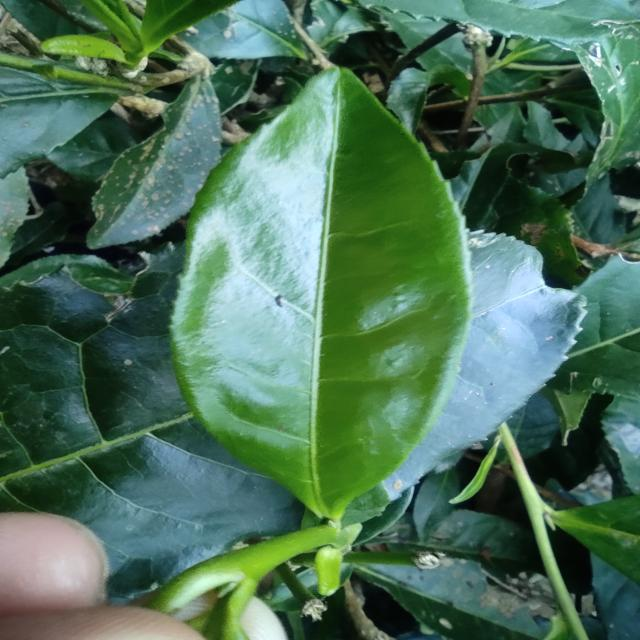Category C 4-7 days: (143, 41, 496, 531)
